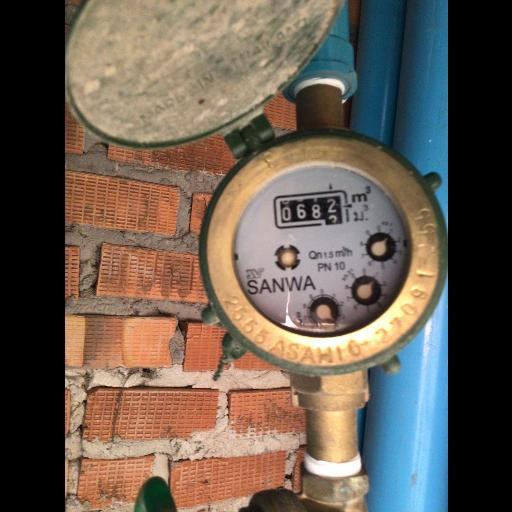0: (279, 199, 295, 224)
2: (322, 195, 343, 225)
6: (292, 198, 310, 222)
8: (306, 197, 324, 222)
border_water_meter_number: (273, 189, 350, 229)
